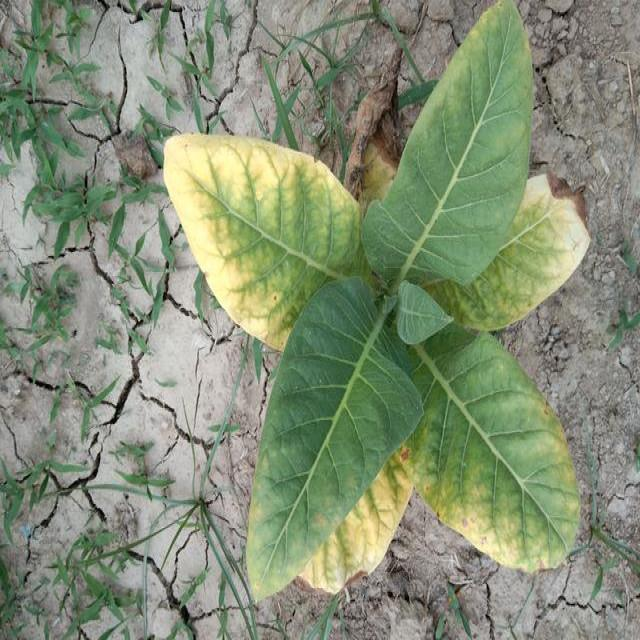crop: (147, 0, 600, 606), (158, 6, 160, 11)
